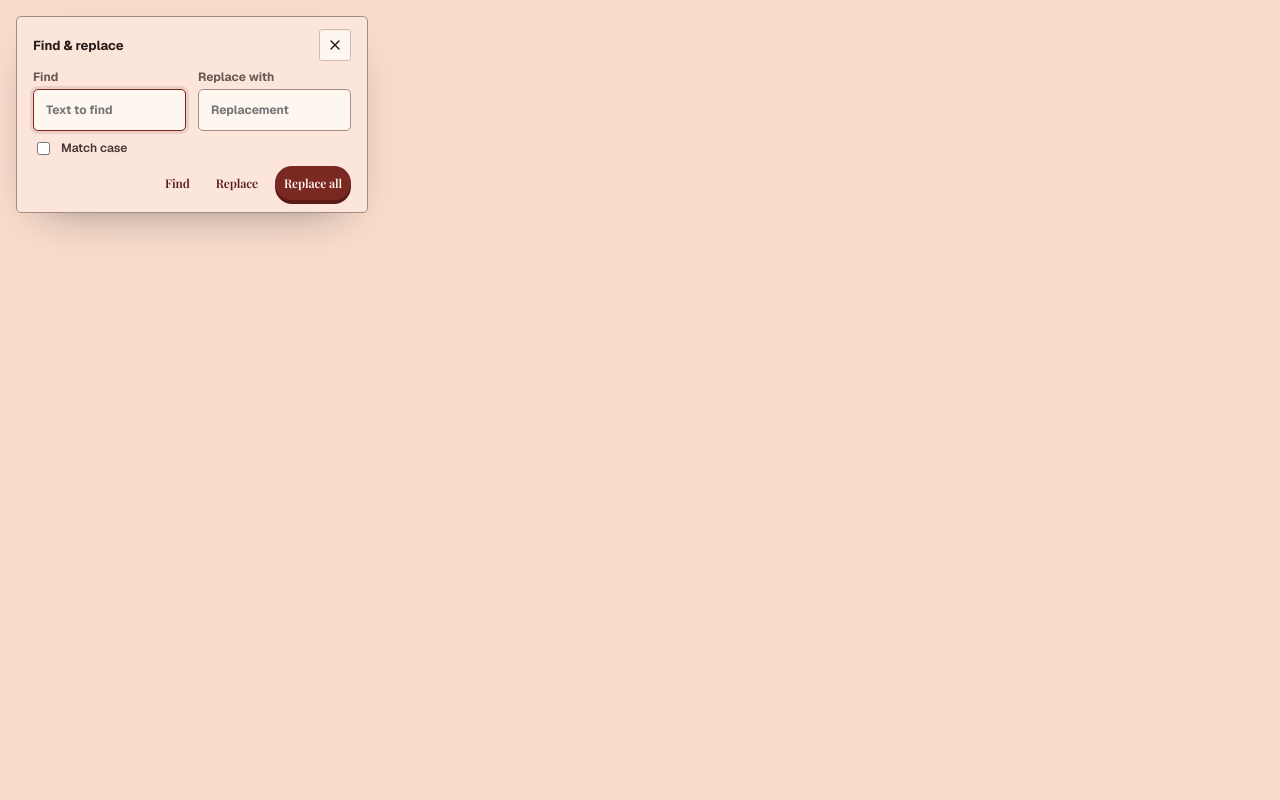
Test case: FindReplaceDialog - find › focuses the find input on open and asks for text when finding with an empty query
The image size is (1280, 800).
Click the button "Find" at (177, 183), box x1=156 y1=166 x2=199 y2=200
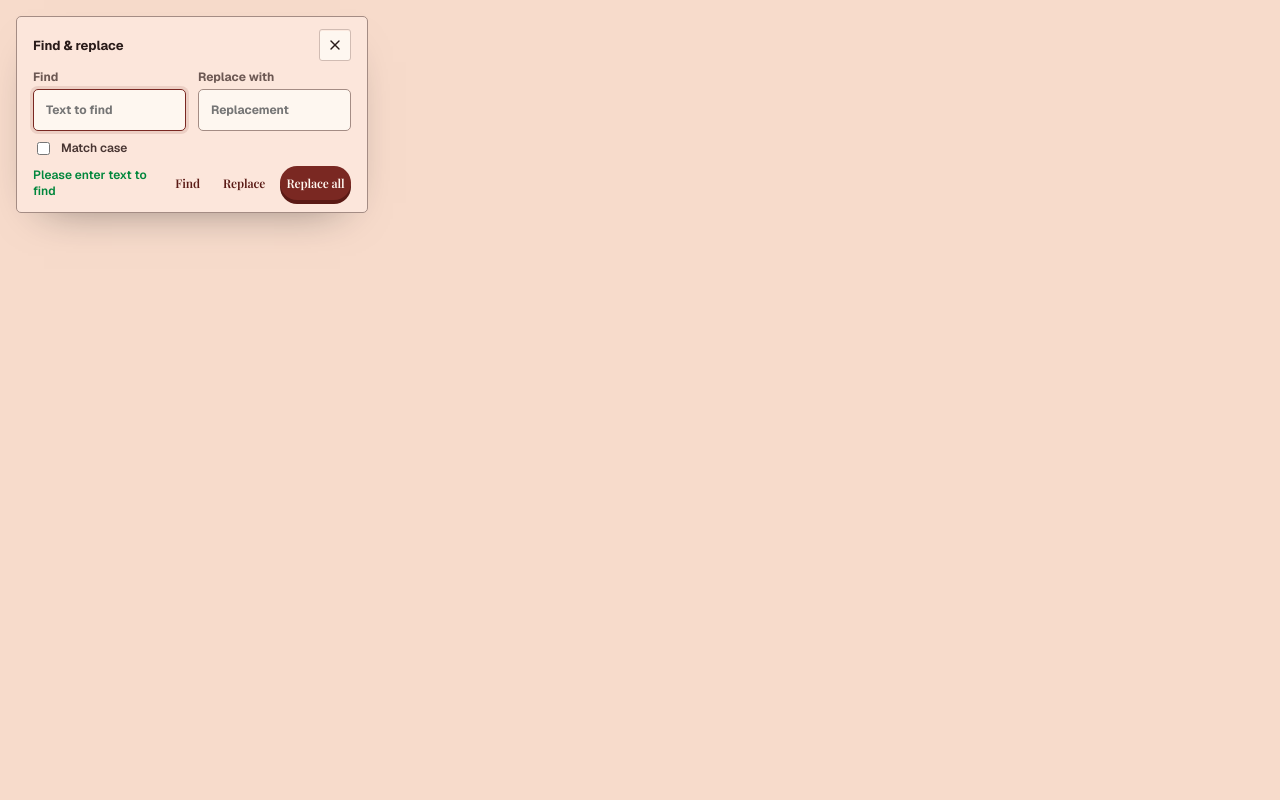
Check: the message reads "Please enter text to find", box x1=33 y1=167 x2=147 y2=199
